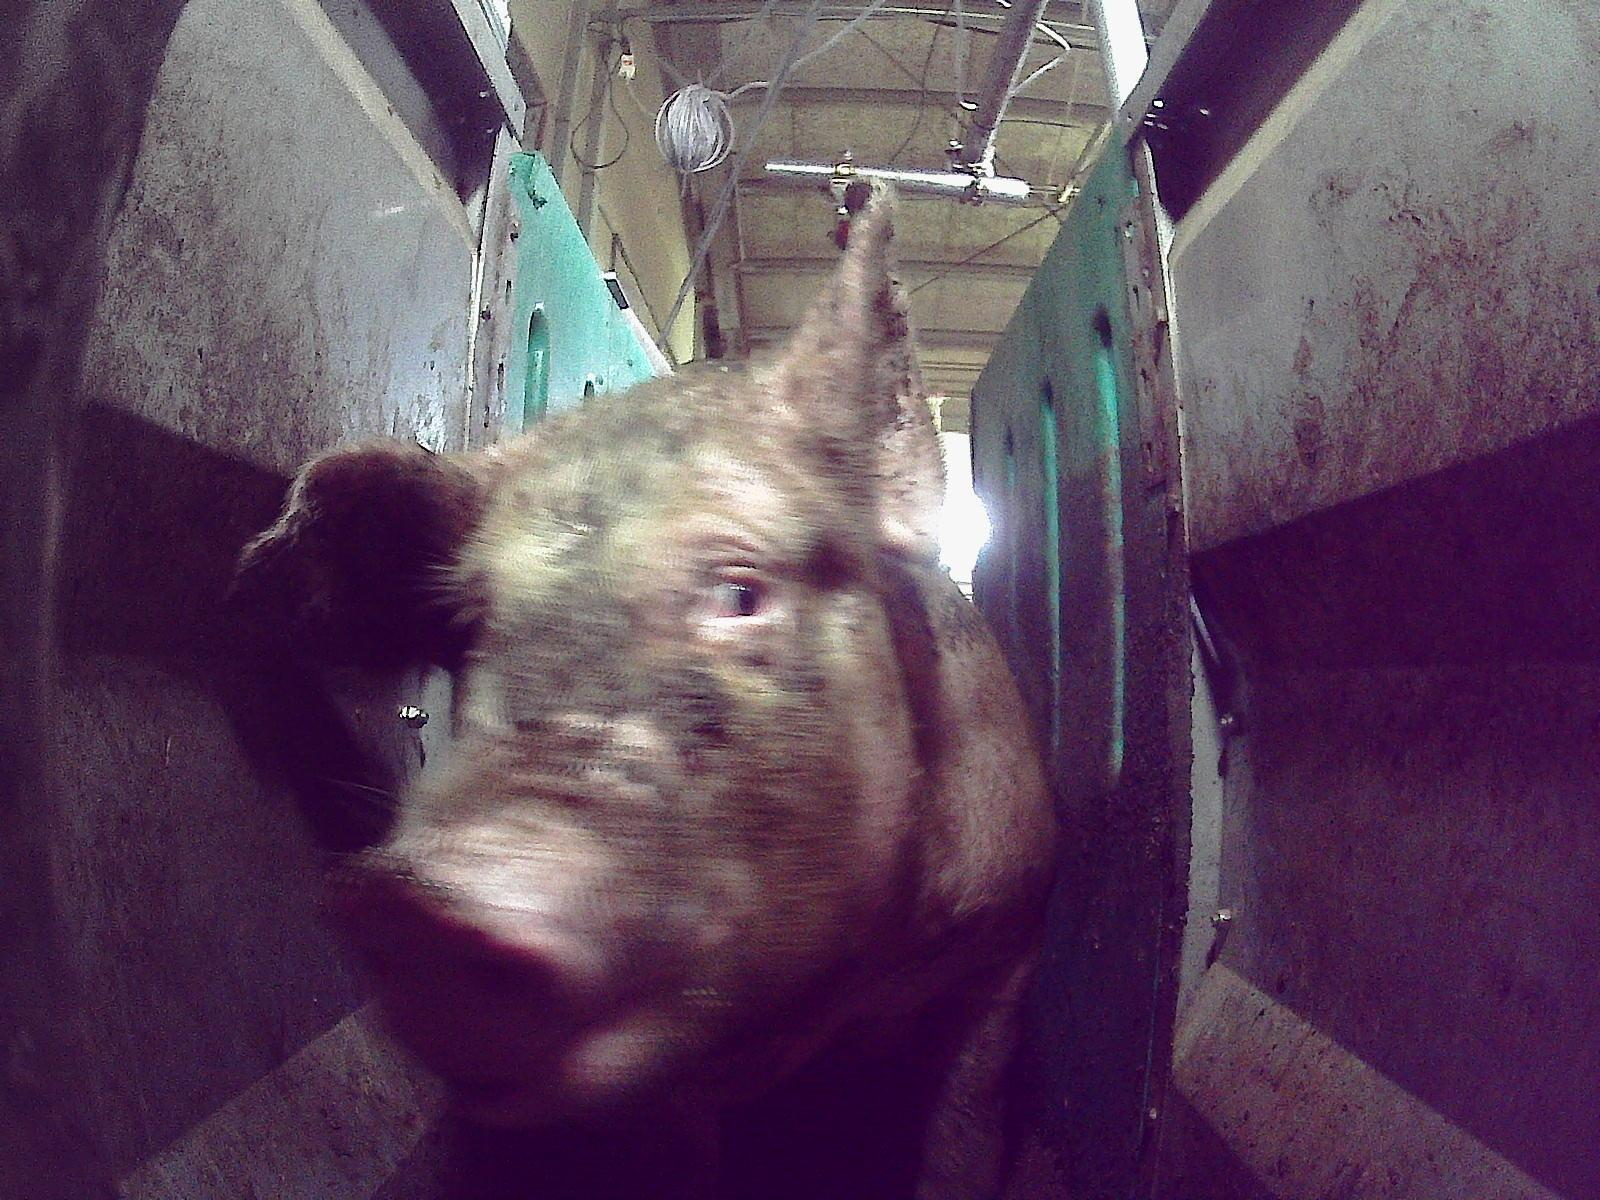Face: (326, 367, 926, 1134)
